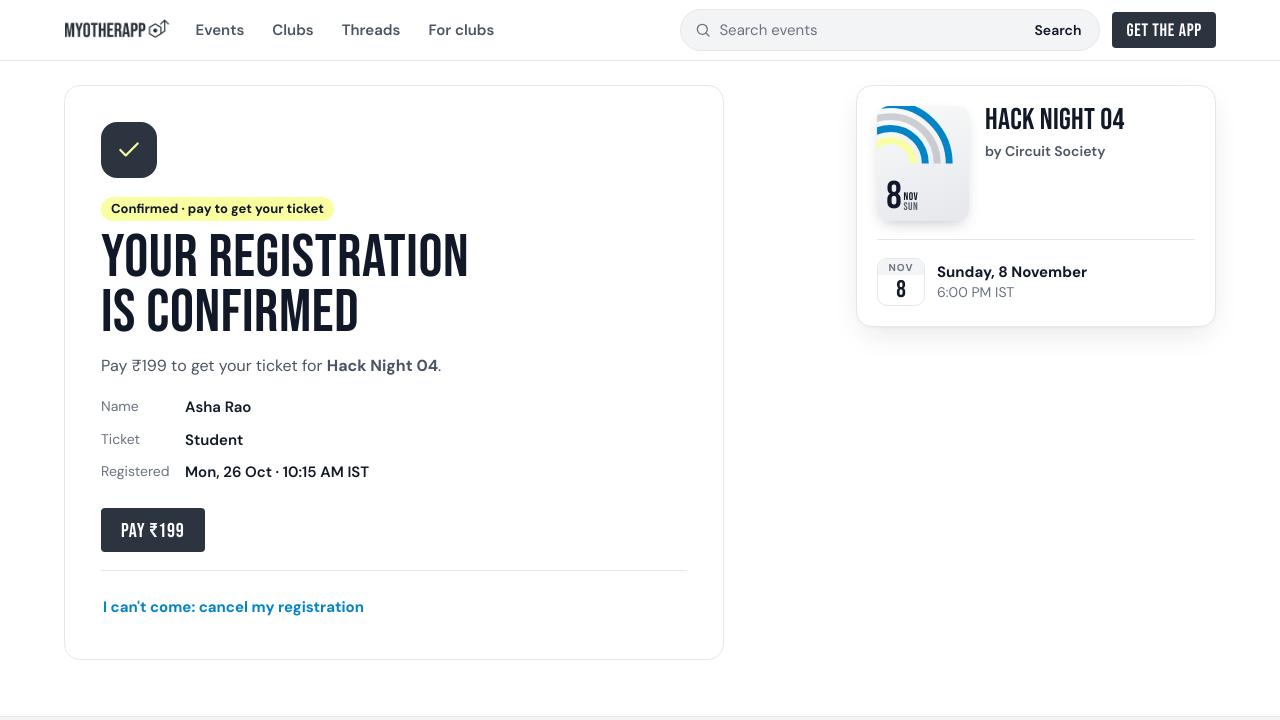
a registration the club confirmed › paid: it can be cancelled, after asking
The width and height of the screenshot is (1280, 720).
Click the button "I can't come: cancel my registration" at (234, 607), box [101, 587, 366, 627]
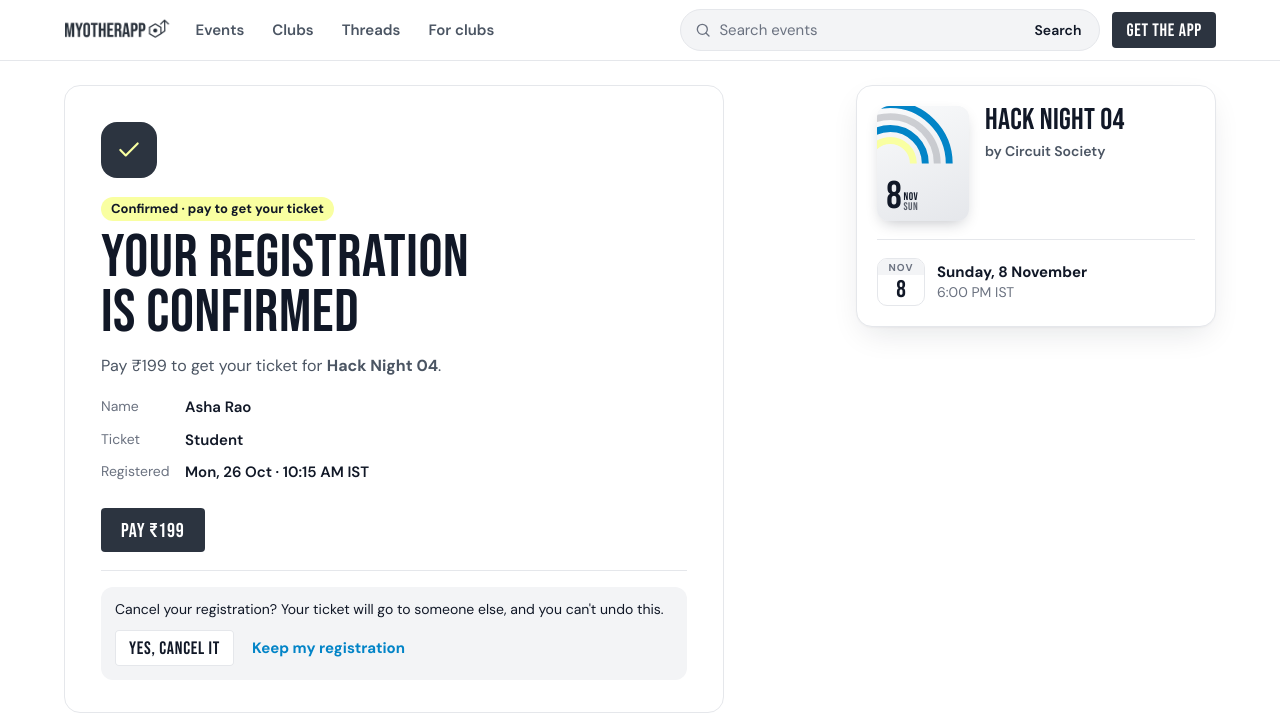
Expected: the element "Cancel your registration" shows "Cancel your registration? Your ticket will go to someone else, and you can't undo this.", [115, 600, 664, 618]
Click the button "Yes, cancel it" at (174, 648), box [115, 630, 234, 666]
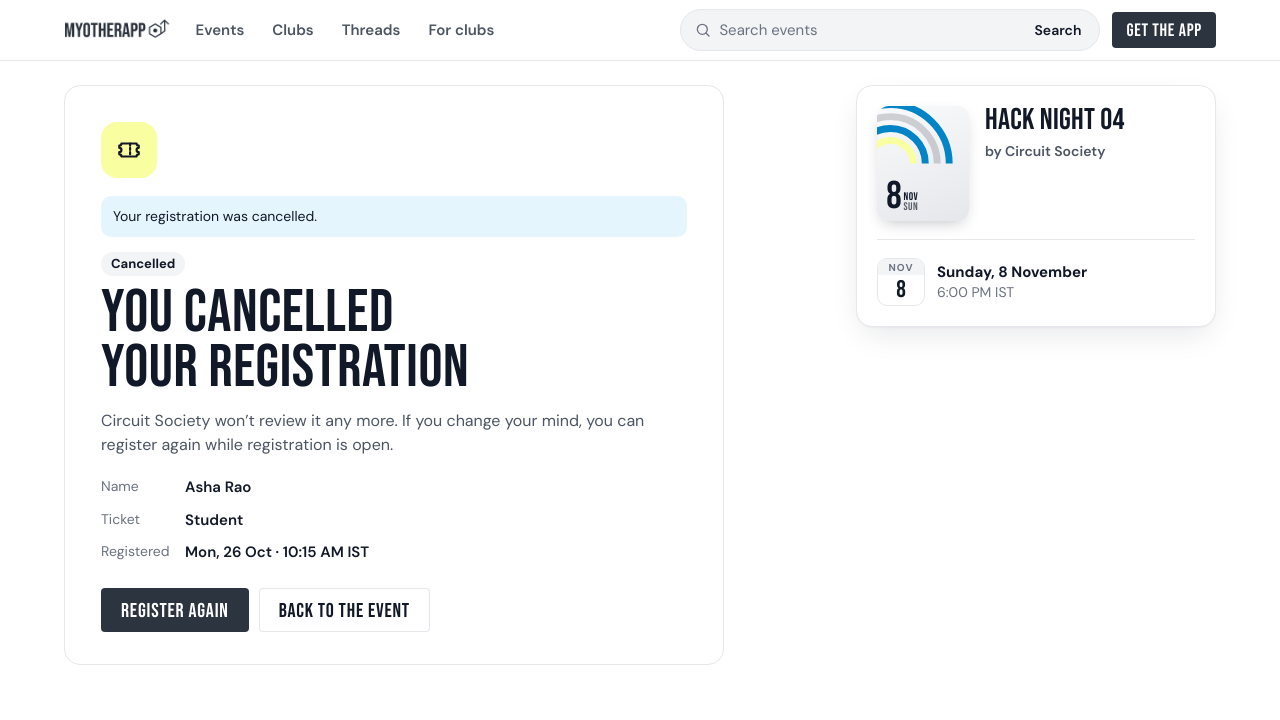
Expected: the heading "You cancelled your registration" is shown, [101, 277, 469, 404]
